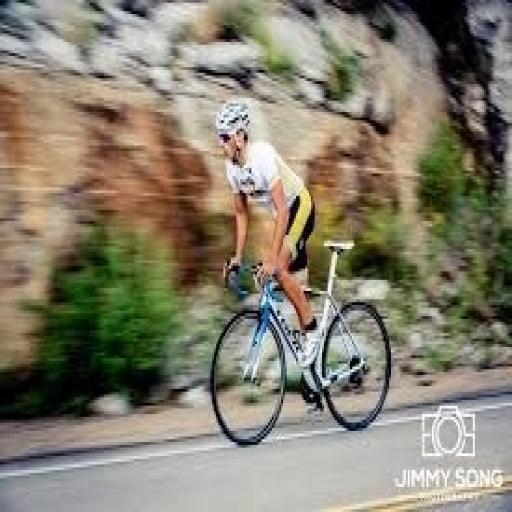cycling: (212, 95, 330, 403)
